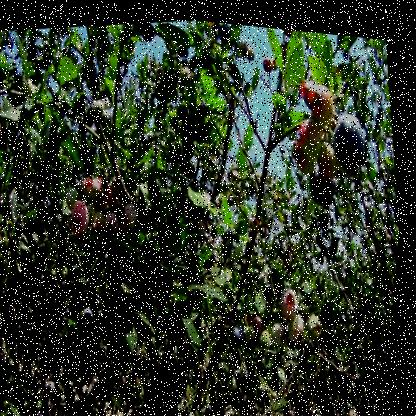intermediate: (295, 69, 341, 118), (293, 112, 326, 167), (318, 133, 346, 175), (83, 168, 109, 211), (72, 195, 97, 239), (288, 304, 313, 344), (281, 279, 305, 315), (107, 176, 128, 211), (259, 38, 279, 74), (94, 203, 111, 244), (107, 207, 125, 235)
mature: (328, 98, 379, 177), (308, 165, 346, 196), (231, 313, 252, 345), (84, 63, 107, 92), (215, 19, 236, 49), (46, 263, 64, 291), (174, 94, 192, 119), (86, 299, 103, 324), (165, 63, 178, 90), (180, 151, 195, 173), (267, 281, 280, 295)
young: (309, 297, 334, 339), (179, 56, 193, 84), (260, 261, 275, 283)
